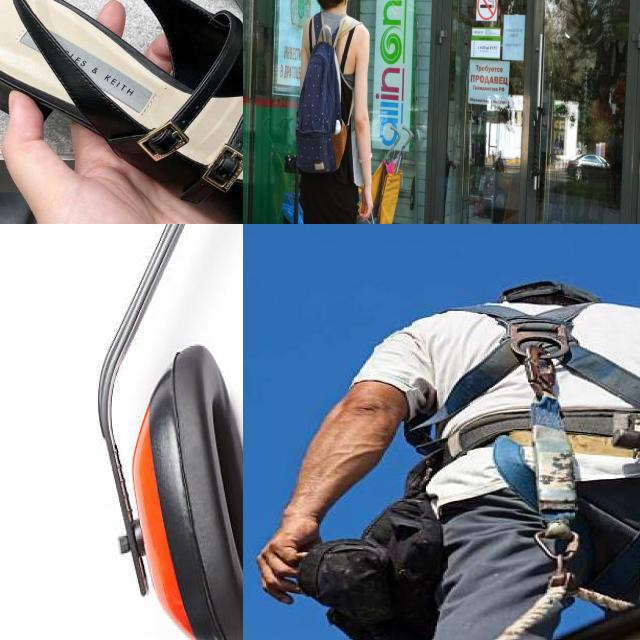Ear-protection: (67, 224, 243, 640)
Harness: (436, 303, 640, 526)
Sandals: (0, 0, 243, 224), (60, 0, 243, 86)
